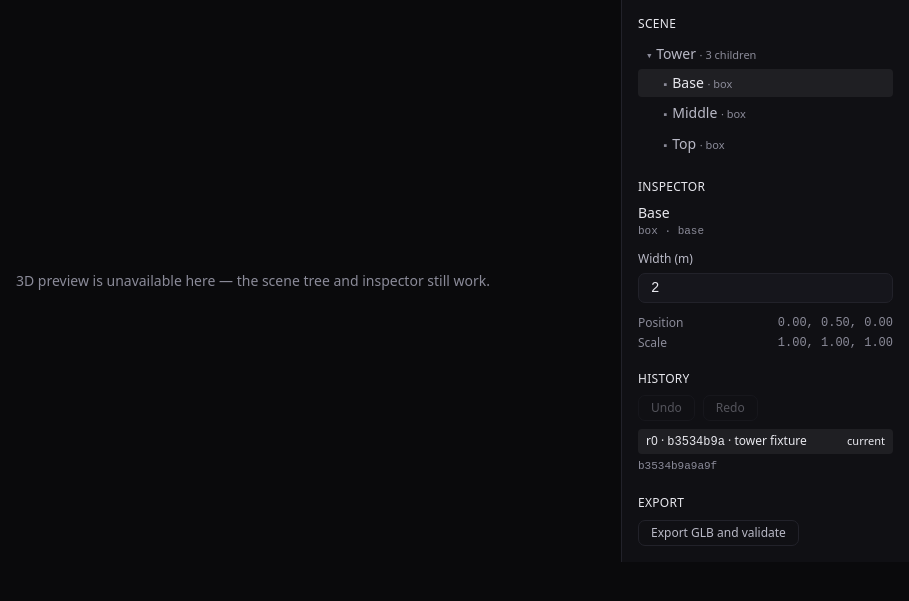
it: ModelPane › surfaces invalid input without creating a revision
Replace the text in the field labelled "Width (m)" with "banana" at {"x": 766, "y": 288}, box [638,273,893,303]
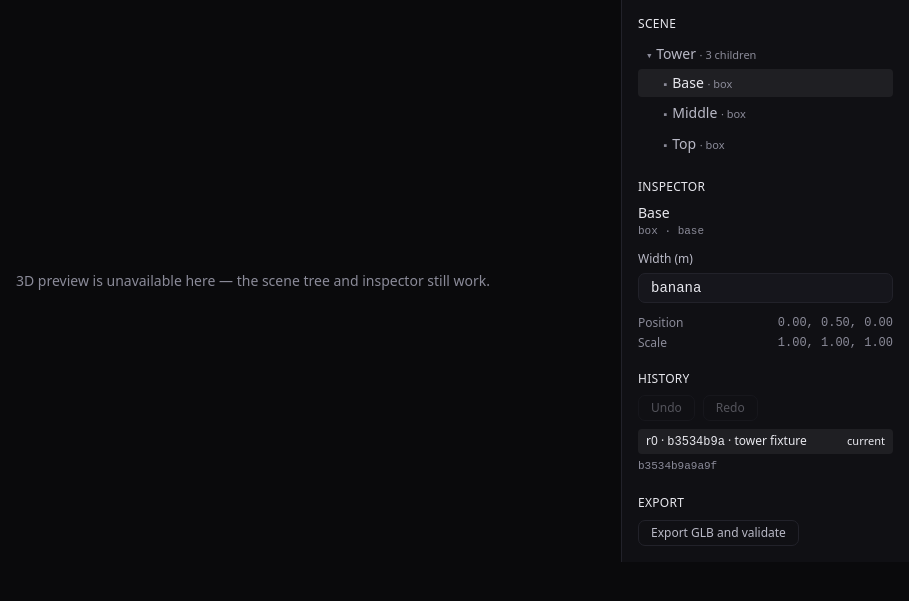
Leave the field labelled "Width (m)", box [638,273,893,303]
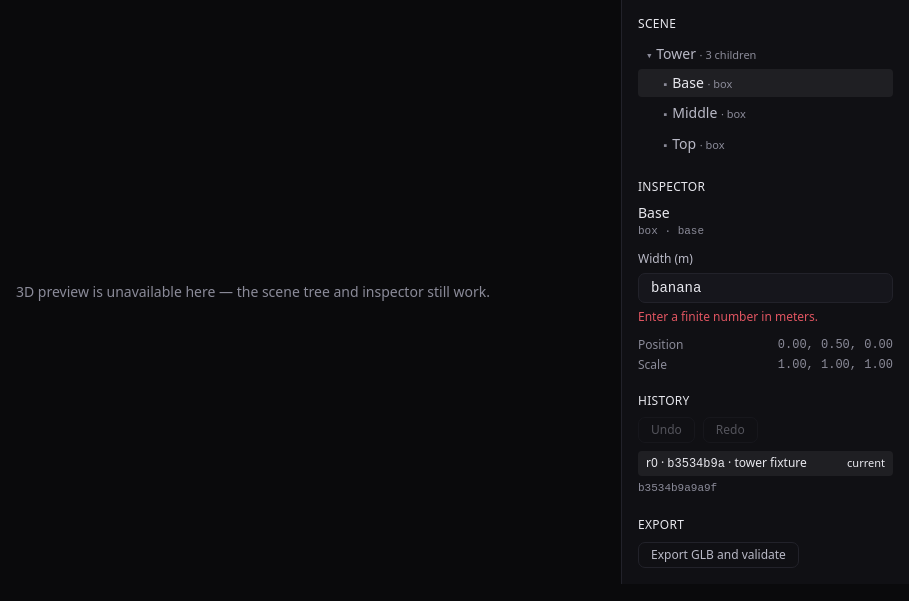
Now the message "Enter a finite number in meters." is shown, box [638,308,818,325]
